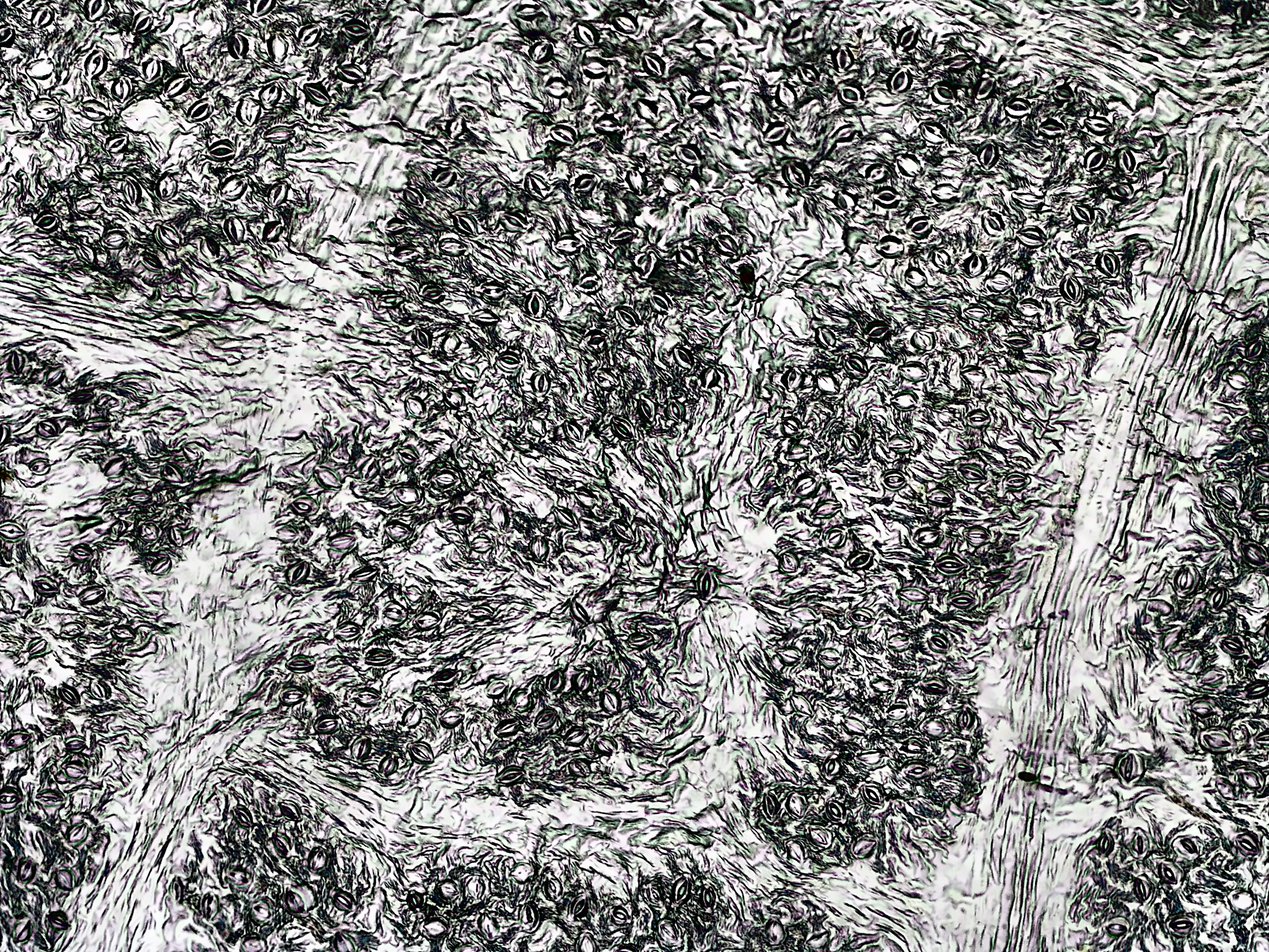stomata: (1115, 748, 1147, 789), (1226, 887, 1259, 916), (933, 552, 970, 577), (1173, 563, 1200, 597), (693, 568, 720, 602), (788, 473, 823, 499), (1199, 729, 1233, 754), (26, 97, 60, 121), (782, 160, 810, 189), (312, 465, 342, 491), (918, 714, 950, 738), (524, 290, 549, 320), (897, 360, 929, 383), (613, 304, 640, 331), (886, 66, 912, 94), (205, 139, 236, 162), (977, 140, 1000, 171), (1016, 224, 1047, 247), (1060, 273, 1083, 304), (518, 901, 541, 932), (220, 174, 247, 200), (842, 353, 868, 380), (647, 289, 673, 316), (83, 50, 108, 78), (236, 97, 261, 125), (524, 172, 549, 200), (1010, 190, 1045, 210), (855, 748, 890, 768), (81, 98, 110, 122), (185, 98, 214, 122), (303, 83, 332, 107), (895, 153, 924, 177), (879, 469, 909, 492), (871, 186, 902, 208), (844, 548, 875, 570), (859, 780, 884, 807), (551, 505, 578, 530), (267, 31, 288, 63), (930, 81, 958, 105), (831, 45, 855, 73), (341, 19, 370, 42), (674, 144, 704, 166), (889, 389, 919, 411), (670, 876, 692, 906), (489, 502, 511, 532), (811, 498, 842, 519), (845, 607, 876, 628), (155, 224, 180, 250), (838, 82, 864, 107), (781, 366, 806, 392), (1216, 484, 1243, 508), (581, 329, 608, 353), (895, 586, 931, 604), (286, 559, 310, 586), (259, 81, 282, 109), (864, 320, 892, 343), (574, 272, 602, 295), (392, 483, 420, 506), (477, 911, 500, 939), (32, 575, 60, 598), (919, 122, 948, 144), (875, 235, 904, 257), (625, 167, 647, 196), (765, 917, 787, 946), (384, 520, 413, 542), (25, 58, 55, 79), (335, 63, 365, 84), (498, 212, 528, 233), (913, 527, 943, 548), (785, 606, 820, 624), (575, 22, 600, 47), (610, 519, 635, 544), (481, 279, 506, 304), (33, 210, 59, 234), (452, 213, 478, 237), (1084, 146, 1108, 172), (963, 251, 987, 277), (1095, 251, 1119, 277), (593, 367, 619, 391), (610, 415, 634, 441), (569, 597, 593, 623), (356, 456, 380, 482), (763, 121, 790, 144), (982, 210, 1005, 237), (906, 216, 933, 239), (785, 792, 808, 819), (421, 915, 448, 938), (636, 394, 656, 425), (333, 621, 364, 641), (223, 216, 245, 244), (74, 163, 102, 185), (1004, 331, 1033, 352), (495, 351, 524, 372), (530, 369, 551, 398), (1002, 471, 1031, 492), (963, 526, 992, 547), (774, 647, 803, 668), (313, 714, 342, 735), (946, 591, 978, 610), (529, 40, 554, 64), (789, 693, 814, 717), (412, 611, 442, 631), (495, 765, 525, 785), (131, 9, 154, 35), (1104, 916, 1130, 939), (155, 172, 177, 199), (1005, 97, 1032, 119), (658, 918, 680, 945), (407, 742, 434, 764), (542, 874, 564, 901), (549, 125, 577, 146), (554, 235, 582, 256), (99, 230, 128, 250), (391, 243, 420, 263), (493, 718, 522, 738), (77, 585, 106, 605), (468, 309, 502, 326), (298, 24, 322, 48), (263, 126, 295, 144), (436, 878, 460, 902), (896, 26, 919, 51), (510, 861, 535, 884), (776, 81, 798, 107), (712, 234, 738, 256), (1069, 203, 1095, 225), (884, 701, 910, 723), (528, 535, 550, 561), (600, 688, 622, 714), (278, 800, 304, 822), (1083, 116, 1113, 135), (957, 463, 987, 482), (267, 180, 288, 207), (1016, 297, 1043, 318), (453, 362, 480, 383), (350, 735, 371, 762), (307, 846, 328, 873), (926, 488, 954, 508), (439, 237, 467, 257), (352, 687, 380, 707), (569, 892, 589, 920), (4, 730, 32, 750), (943, 54, 974, 72), (989, 270, 1013, 293), (816, 372, 840, 395), (103, 456, 127, 479), (931, 183, 960, 202), (609, 225, 638, 244), (165, 74, 190, 96), (852, 837, 877, 859), (439, 706, 464, 728), (581, 57, 607, 78), (446, 114, 467, 140), (832, 190, 858, 211), (1074, 330, 1100, 351), (1226, 369, 1252, 390), (1208, 586, 1229, 612), (910, 330, 936, 351), (1199, 668, 1225, 689), (816, 648, 842, 669), (1173, 837, 1199, 858), (593, 735, 619, 756), (374, 290, 406, 307), (228, 33, 248, 60), (887, 434, 914, 454), (1132, 875, 1152, 902), (288, 497, 318, 515), (280, 686, 307, 706), (593, 116, 621, 135), (918, 676, 946, 695), (840, 716, 868, 735), (762, 793, 781, 821), (1130, 830, 1149, 858), (285, 654, 313, 673), (824, 525, 847, 548), (65, 822, 88, 845), (31, 6, 55, 28), (140, 58, 162, 82), (1160, 626, 1182, 650), (1176, 650, 1200, 672), (807, 823, 829, 847), (574, 487, 598, 509), (121, 179, 142, 204), (1235, 834, 1260, 855), (563, 725, 588, 746), (465, 876, 486, 901), (202, 892, 220, 921), (612, 13, 638, 33), (865, 163, 891, 183), (1107, 181, 1133, 201), (666, 397, 686, 423), (628, 631, 654, 651), (573, 670, 593, 696), (1168, 916, 1195, 935), (545, 77, 568, 99), (635, 98, 658, 120), (643, 53, 665, 76), (695, 39, 718, 61), (797, 63, 820, 85), (562, 420, 584, 443), (676, 243, 698, 266), (841, 431, 863, 454), (1156, 862, 1178, 885), (404, 395, 426, 418), (1245, 336, 1266, 360), (815, 327, 836, 351), (780, 416, 804, 437), (1217, 637, 1245, 655), (806, 929, 830, 950), (1096, 830, 1114, 858), (534, 708, 558, 729), (511, 688, 532, 712), (484, 678, 508, 699), (139, 252, 164, 272), (1039, 119, 1064, 139), (674, 345, 694, 370), (545, 669, 565, 694), (285, 889, 305, 914), (12, 918, 32, 943), (364, 649, 395, 665), (112, 76, 131, 102), (421, 139, 447, 158), (1117, 147, 1136, 173), (687, 90, 714, 108), (785, 443, 812, 461), (905, 267, 927, 289), (1238, 769, 1261, 790), (821, 757, 842, 780), (825, 800, 846, 823), (432, 167, 456, 187), (442, 389, 466, 409), (412, 326, 432, 350), (785, 839, 805, 863), (396, 445, 420, 465), (420, 284, 444, 304), (272, 833, 292, 857), (159, 463, 183, 483), (349, 565, 377, 582), (431, 669, 459, 686), (35, 789, 63, 806), (382, 603, 407, 622), (69, 543, 94, 562), (927, 632, 949, 653), (58, 685, 80, 706), (200, 236, 220, 259), (699, 366, 719, 389), (378, 754, 398, 777), (226, 868, 249, 888), (89, 680, 112, 700), (328, 534, 355, 551), (966, 409, 990, 428), (887, 633, 911, 652), (645, 883, 664, 907), (403, 705, 422, 729), (830, 124, 855, 142), (904, 762, 930, 779), (58, 621, 84, 638), (779, 552, 800, 573), (334, 891, 355, 912), (74, 243, 94, 265), (441, 332, 461, 354), (252, 900, 272, 922), (105, 134, 128, 153), (568, 758, 591, 777), (55, 868, 74, 891), (63, 736, 86, 755), (432, 470, 456, 488), (7, 350, 25, 374), (515, 3, 540, 20), (949, 758, 974, 775), (449, 506, 474, 523), (111, 625, 136, 642), (975, 78, 995, 99), (1053, 84, 1073, 105), (610, 905, 631, 925), (45, 366, 65, 387), (233, 806, 252, 828), (83, 416, 109, 432), (574, 174, 597, 192), (1245, 425, 1268, 443), (901, 736, 925, 753), (469, 536, 493, 553), (403, 186, 423, 206), (527, 417, 547, 437), (985, 568, 1010, 584), (262, 221, 281, 242), (955, 708, 974, 729), (151, 556, 172, 575), (28, 458, 51, 475), (1192, 701, 1216, 717), (49, 910, 68, 930), (27, 638, 48, 656), (138, 523, 159, 541), (37, 420, 58, 438), (964, 306, 989, 321), (19, 859, 36, 881), (64, 763, 86, 780), (468, 605, 494, 619), (931, 249, 950, 268), (405, 889, 423, 909), (699, 887, 716, 908), (385, 218, 407, 234), (126, 489, 153, 502), (871, 679, 894, 693), (404, 586, 423, 602), (111, 518, 127, 536), (68, 391, 94, 402)
